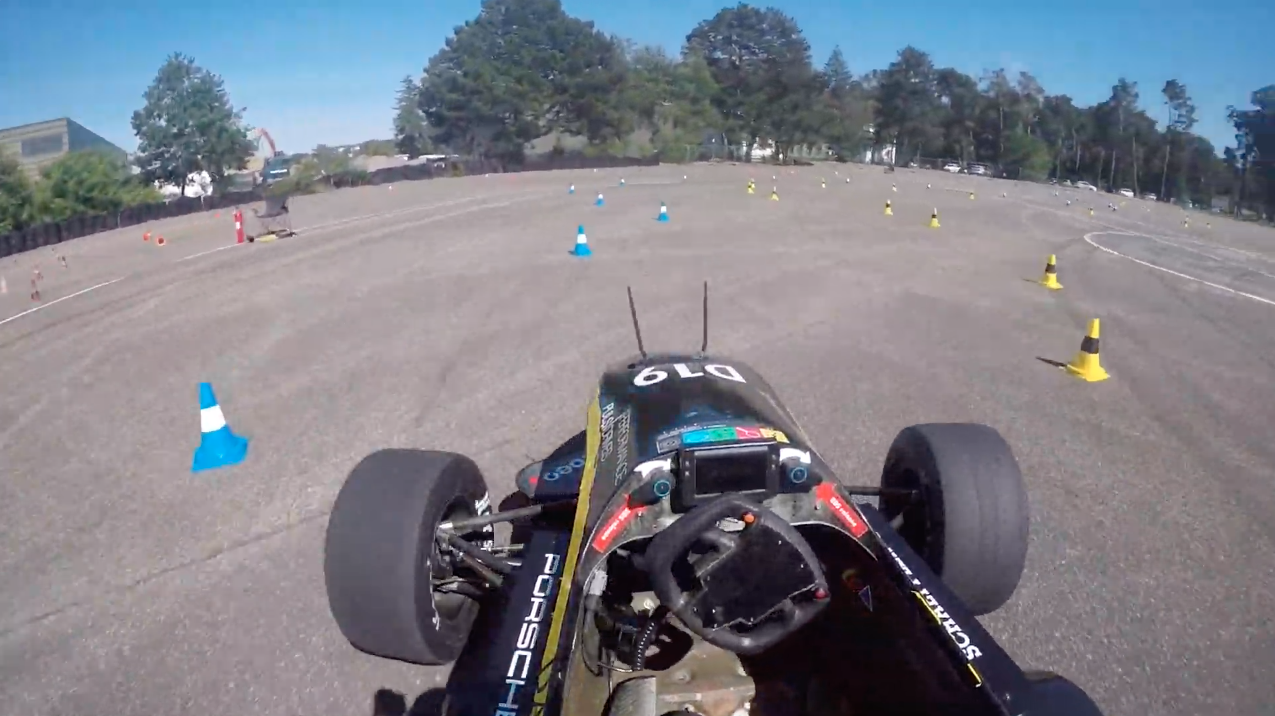lcone: (187, 379, 258, 476), (566, 221, 598, 260), (654, 198, 673, 223)
rcone: (1058, 314, 1121, 388), (1033, 249, 1069, 292), (925, 204, 944, 229)
